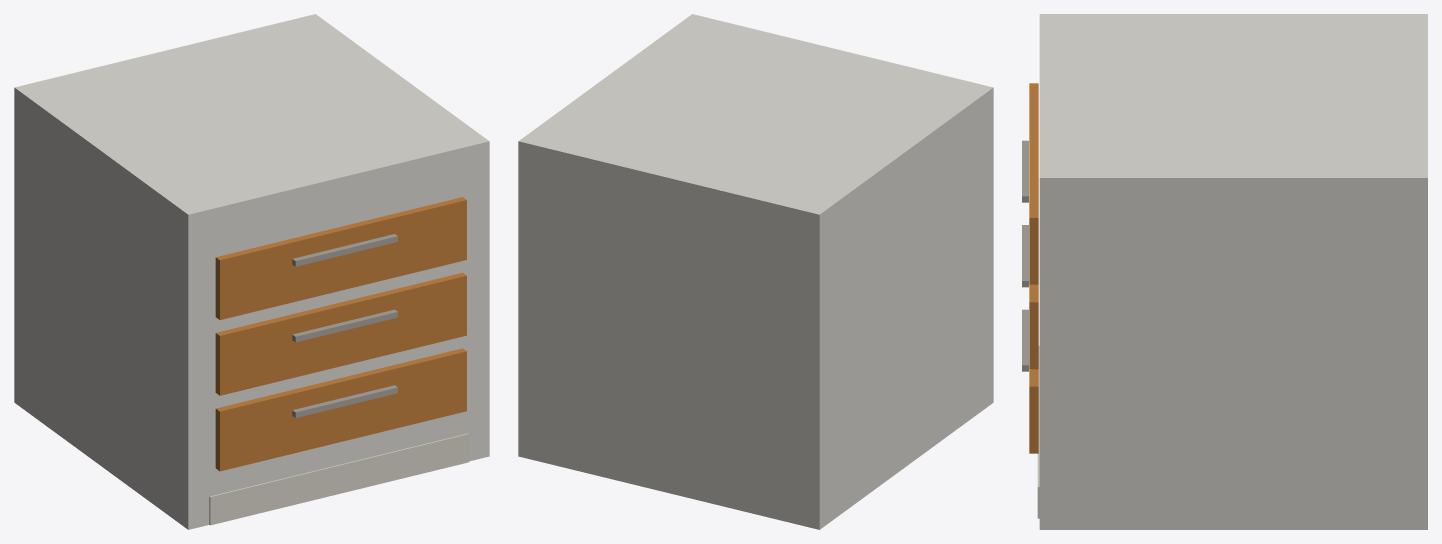
File: flatBaseDrawerWide.glb
3 renders of one model, left to right at view 1: azimuth 30°, elevation 25°; view 2: azimuth 150°, elevation 25°; view 3: azimuth 270°, elevation 25°, orthographic. The views are drawn at different scales.
Visible parts, largest first — view 1: body, drawer1, drawer3, drawer2, toeKick, handle (×3); view 2: body; view 3: body, drawer1, drawer2, drawer3.
Boxes of the visible parts, x1,y1,x2,y2 form: body: (14,14,489,529); drawer1: (215,197,466,319); drawer3: (215,348,466,471); drawer2: (215,272,466,395); toeKick: (209,433,469,525); handle (×3): (292,234,397,417); body: (518,14,993,529); body: (1039,14,1427,529); drawer1: (1029,83,1038,284); drawer2: (1029,284,1038,369); drawer3: (1029,369,1038,453).
Size of the model in its own units: 1 by 1 by 1.04.
